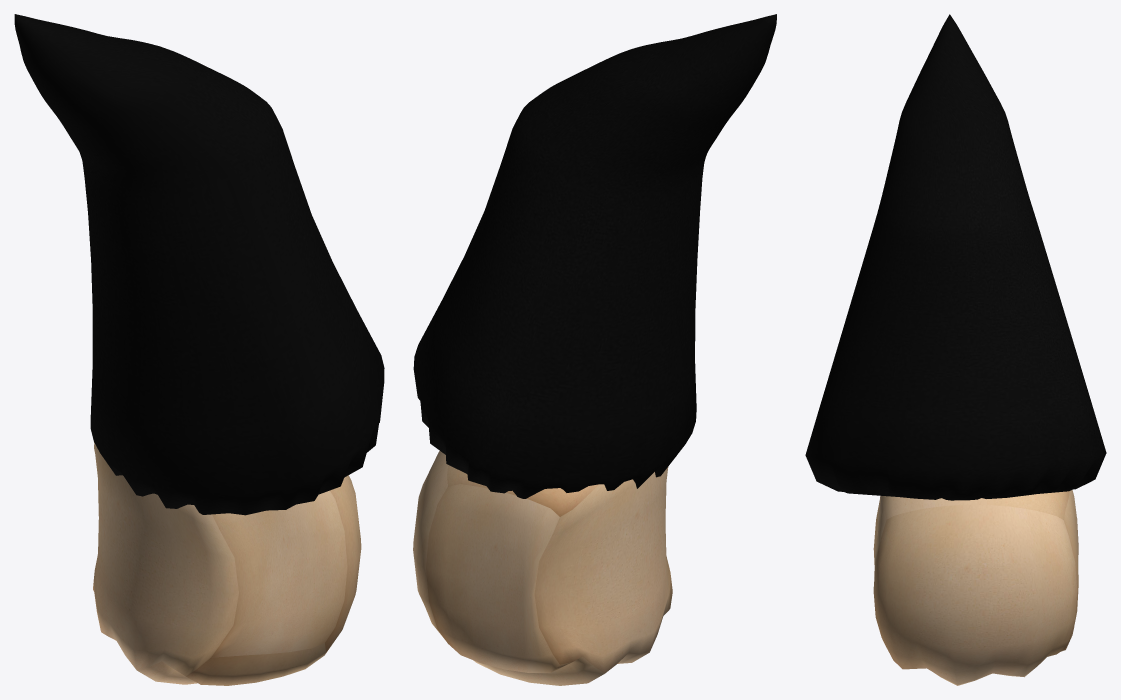
The model's file is Brazo_Izq.obj.
3 views of the same model, side by side, from view 1: azimuth 30°, elevation 25°; view 2: azimuth 150°, elevation 25°; view 3: azimuth 270°, elevation 25° (orthographic). The views are drawn at different scales.
Parts seen in each view (by area): view 1: Cone001, Box002; view 2: Cone001, Box002; view 3: Cone001, Box002.
Boxes of the visible parts, x1,y1,x2,y2 form: Cone001: [14, 14, 384, 515]; Box002: [93, 442, 361, 685]; Cone001: [413, 14, 776, 498]; Box002: [413, 451, 672, 685]; Cone001: [805, 14, 1106, 500]; Box002: [873, 490, 1078, 685].
Size of the model in its own units: 9.33 by 18.49 by 8.81.
